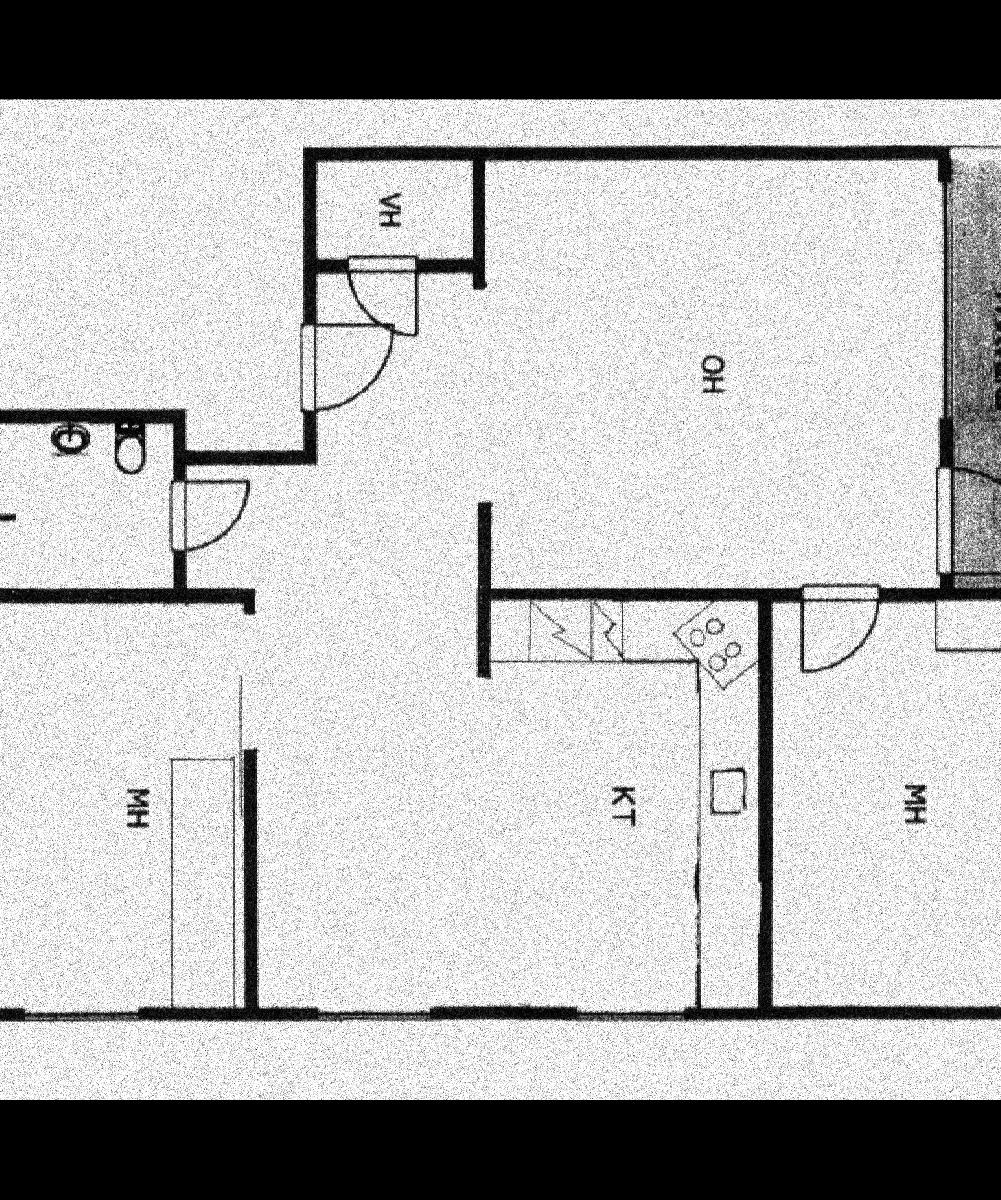door: (296, 314, 396, 418), (922, 472, 1001, 581), (796, 590, 883, 670), (160, 477, 252, 552), (352, 256, 418, 344)
window: (934, 167, 949, 415), (316, 1002, 427, 1026), (576, 1000, 684, 1020)
zone: (257, 154, 938, 1005), (0, 604, 243, 1010), (771, 592, 1001, 1009), (0, 424, 178, 586), (954, 147, 1001, 586), (314, 152, 474, 264)
